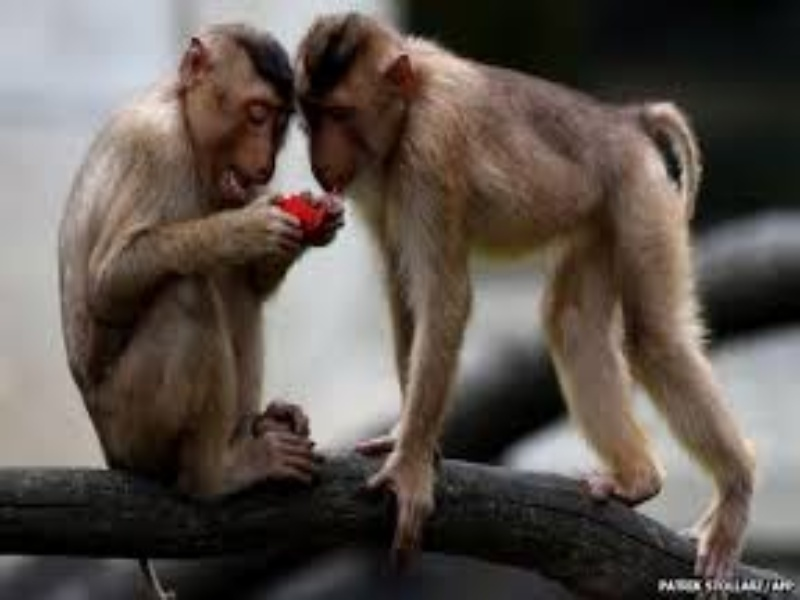monkey: (293, 1, 800, 600), (50, 13, 301, 492)
